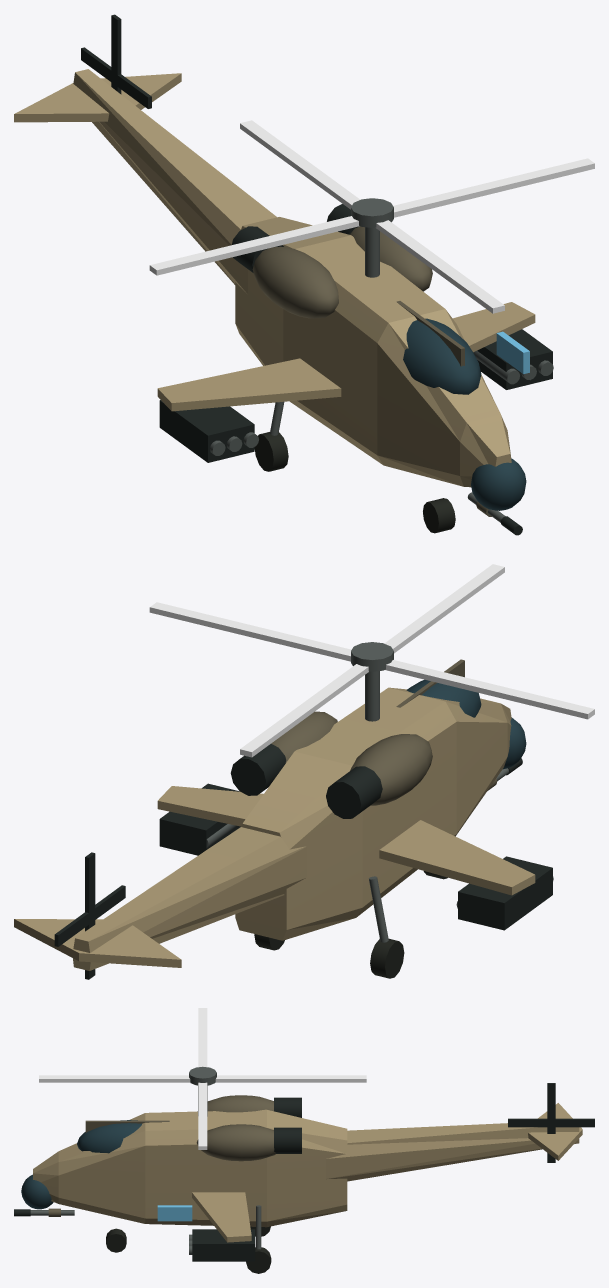
File: heli.glb
3 renders of one model, top to bottom at view 1: azimuth 30°, elevation 25°; view 2: azimuth 150°, elevation 25°; view 3: azimuth 270°, elevation 25°, orthographic. The views are drawn at different scales.
Visible parts, largest first — view 1: armor, equipment (×4), glass, marking; view 2: armor, equipment (×4), glass; view 3: armor, equipment (×5), glass, marking.
Part boxes in pixels (x1,y1,x2,y2): armor: (14,69,535,487); equipment (×4): (81,14,594,533); glass: (403,318,526,510); marking: (496,331,529,374); armor: (14,687,535,970); equipment (×4): (54,564,594,979); glass: (406,676,526,769); armor: (33,1103,582,1242); equipment (×5): (14,1008,594,1273); glass: (21,1120,141,1209); marking: (157,1205,192,1221).
Size of the model in its own units: 4.7 by 2.86 by 8.34.
